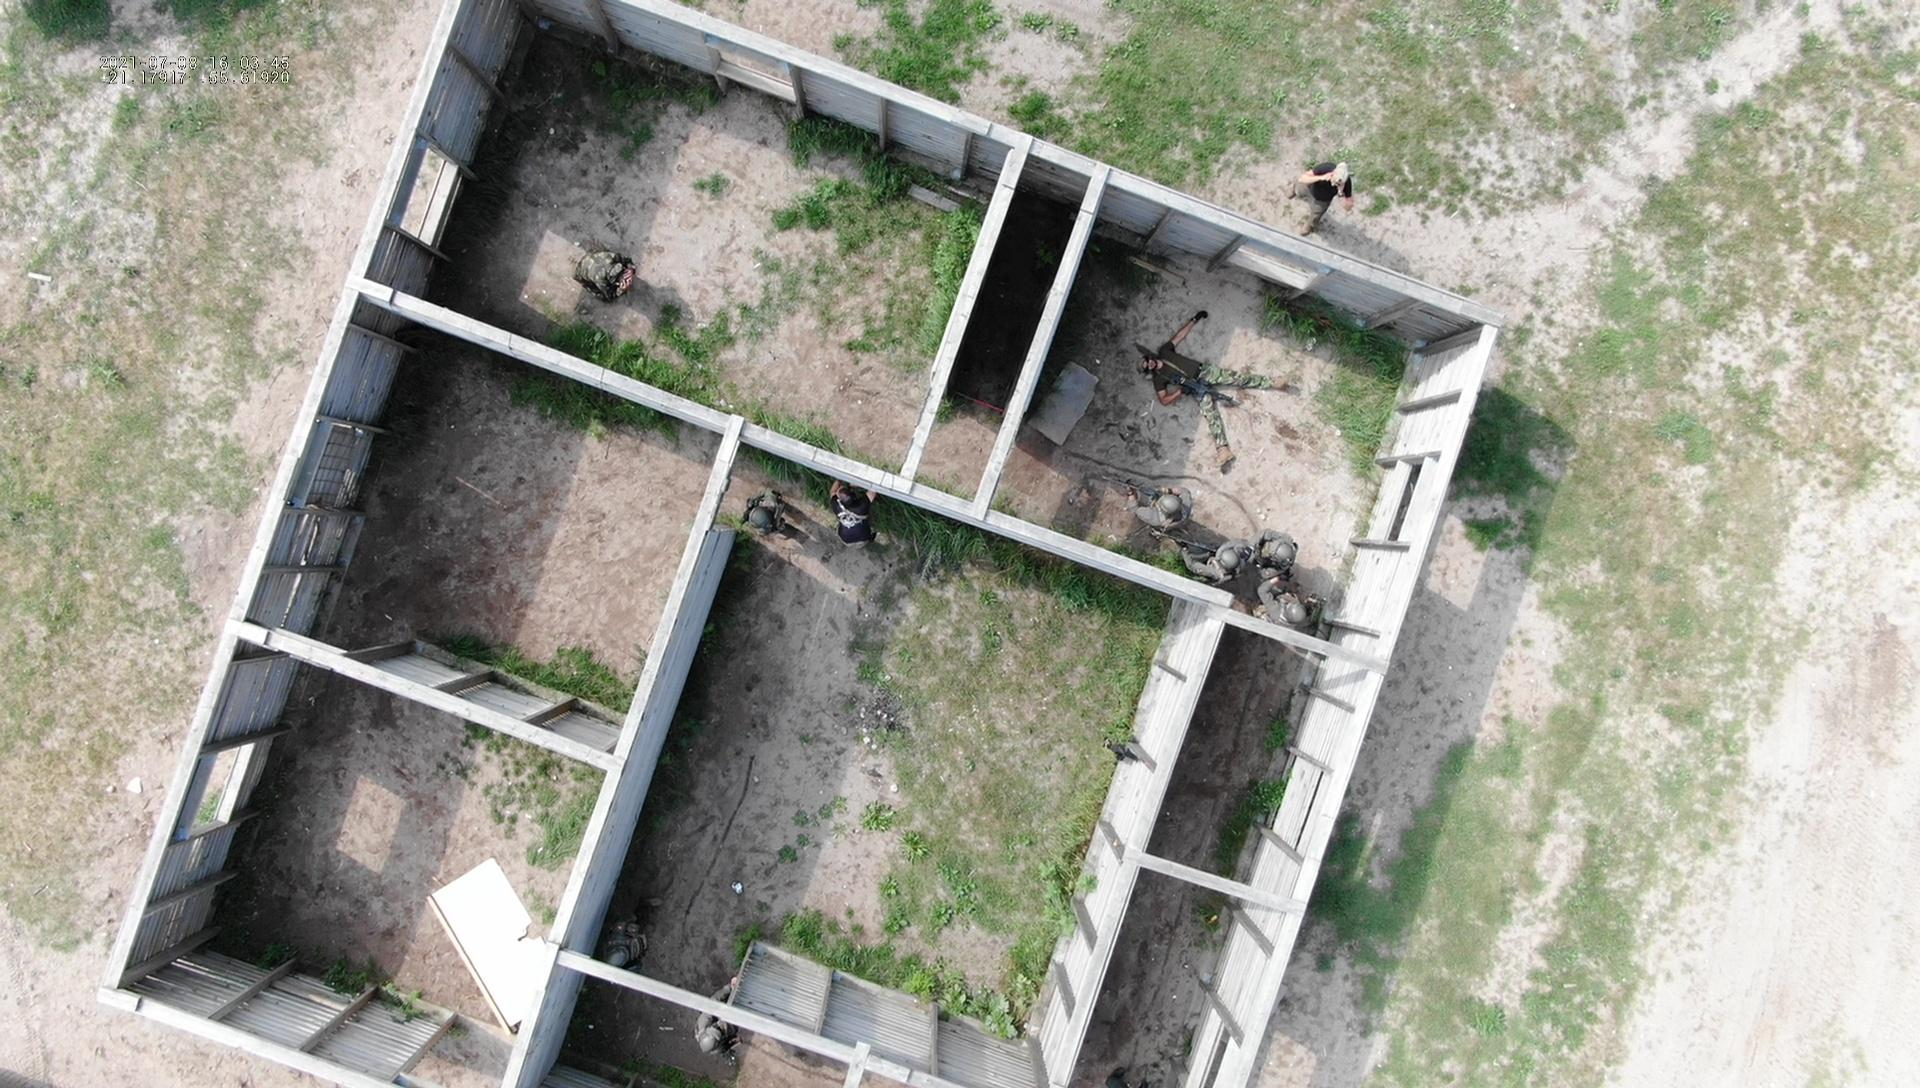Soldier: (1137, 299, 1280, 458), (829, 487, 916, 567), (576, 232, 647, 315), (1249, 560, 1327, 636), (601, 882, 670, 965), (1116, 480, 1200, 535), (1178, 524, 1240, 579), (753, 479, 808, 539), (696, 1010, 750, 1070), (1247, 529, 1302, 584)
